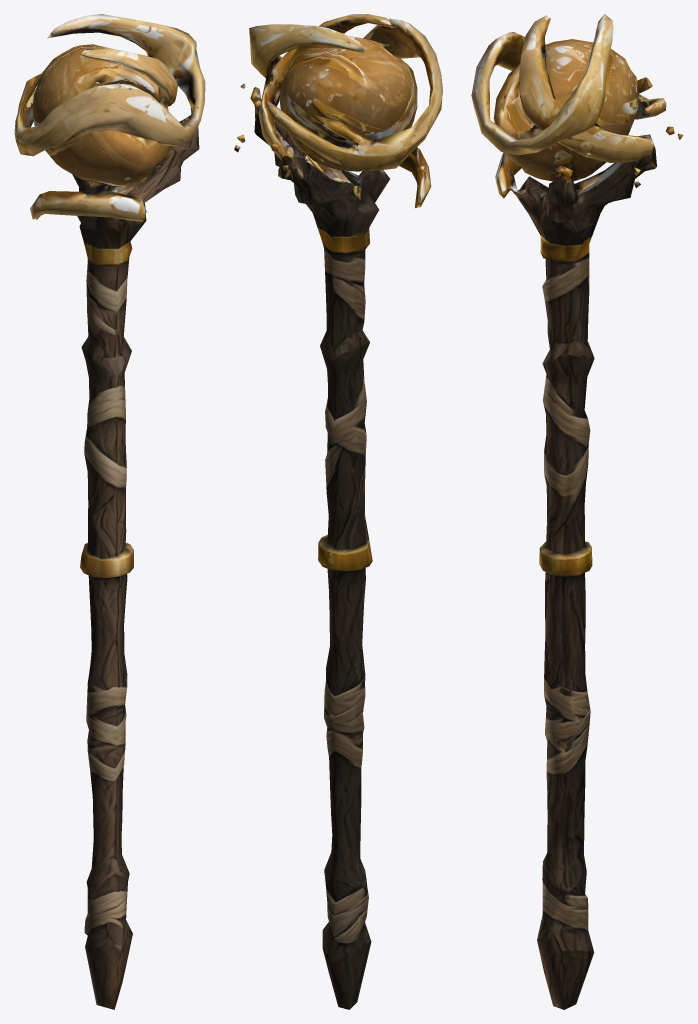
Rendered from Prop_Staff_Sand.fbx.
3 renders of one model, left to right at view 1: azimuth 30°, elevation 25°; view 2: azimuth 150°, elevation 25°; view 3: azimuth 270°, elevation 25°, orthographic.
Visible parts, largest first — view 1: texture_mapping; view 2: texture_mapping; view 3: texture_mapping.
Part boxes in pixels (x1=…): texture_mapping: x1=14, y1=14, x2=205, y2=1009; texture_mapping: x1=234, y1=14, x2=442, y2=1009; texture_mapping: x1=471, y1=14, x2=683, y2=1009.
Size of the model in its own units: 0.1879 by 0.1953 by 0.9967.
Materials: 1 (1 with a texture image).
